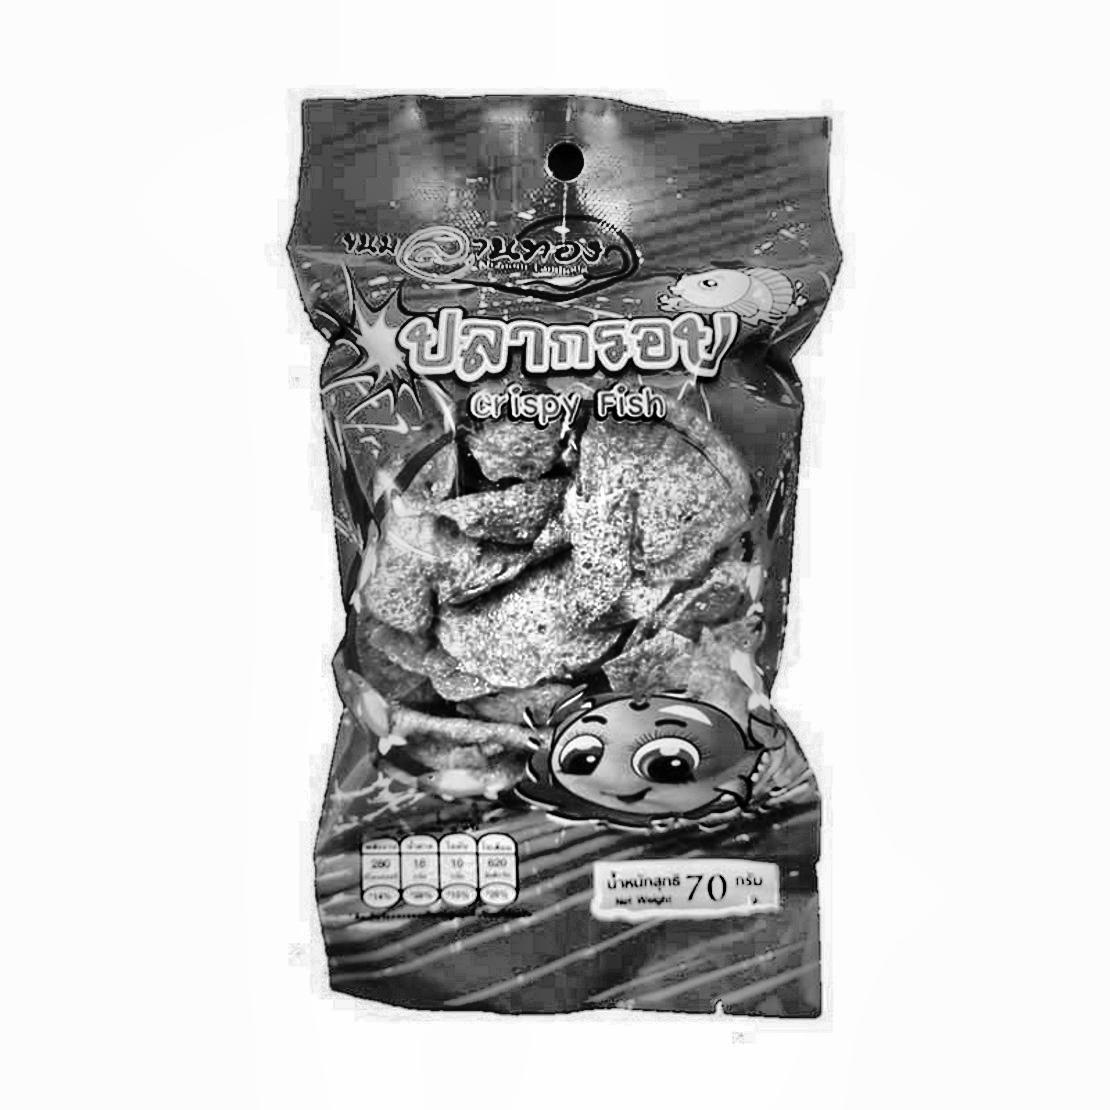snackbag: (158, 30, 938, 1065)
